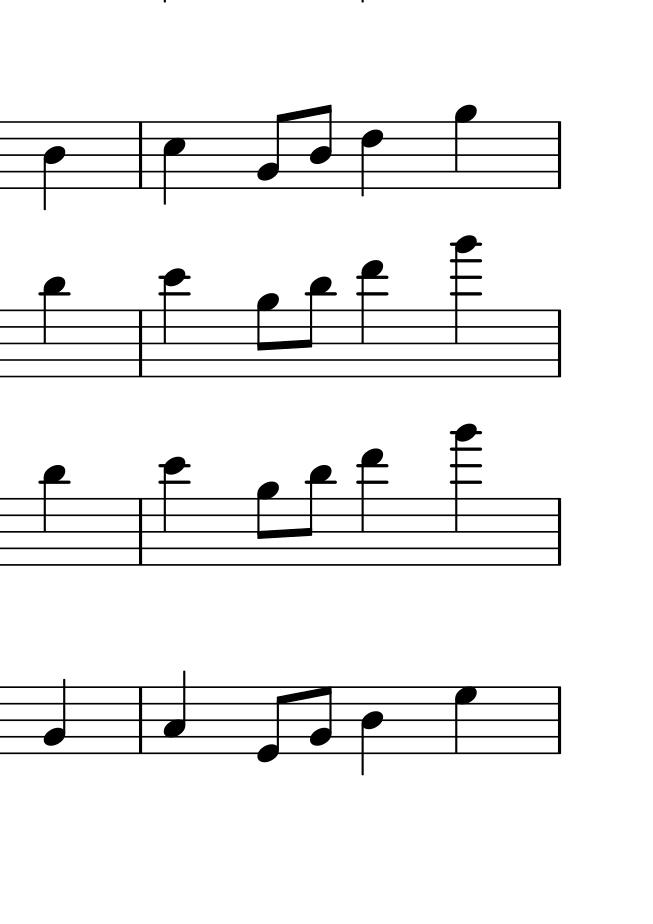4_12: (158, 267, 188, 379)
4_13: (357, 258, 388, 379)
4_14: (158, 455, 191, 567)
4_15: (356, 447, 387, 567)
4_18: (450, 234, 482, 379), (450, 423, 482, 568)
4_2: (41, 678, 68, 755)
4_3: (162, 672, 187, 754)
4_4: (42, 120, 66, 211), (360, 687, 384, 776)
4_5: (160, 121, 188, 206)
4_6: (359, 119, 383, 198)
4_7: (453, 686, 479, 755)
4_9: (453, 103, 476, 190)
8_0: (256, 685, 288, 765)
8_11: (301, 460, 333, 567), (302, 273, 333, 378), (40, 460, 68, 570), (40, 273, 67, 381)
8_2: (257, 112, 289, 189), (308, 684, 334, 755)
8_4: (308, 102, 333, 191)
8_9: (256, 291, 279, 376), (255, 482, 278, 565)
Single_barline: (550, 121, 567, 187), (132, 122, 149, 187), (551, 310, 567, 377), (551, 687, 567, 753), (551, 499, 567, 564), (133, 687, 148, 755), (133, 312, 149, 375), (133, 499, 148, 563)
